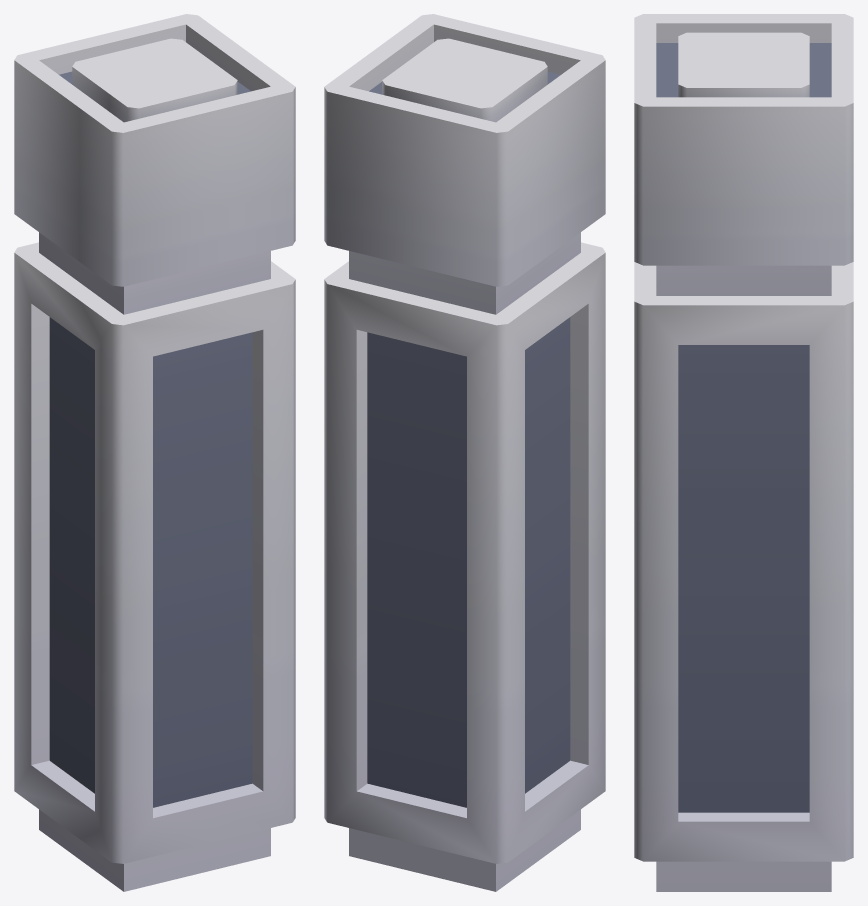
File: low-detail-building-a.glb
3 renders of one model, left to right at view 1: azimuth 30°, elevation 25°; view 2: azimuth 150°, elevation 25°; view 3: azimuth 270°, elevation 25°, orthographic. The views are drawn at different scales.
Visible parts, largest first — view 1: low-detail-building-a; view 2: low-detail-building-a; view 3: low-detail-building-a.
Part boxes in pixels (x1=…): low-detail-building-a: x1=14, y1=14, x2=295, y2=891; low-detail-building-a: x1=324, y1=14, x2=605, y2=891; low-detail-building-a: x1=634, y1=14, x2=853, y2=891.
Bounding box in the file's own units: 0.5 × 2 × 0.5.
Materials: 1 (1 with a texture image).
